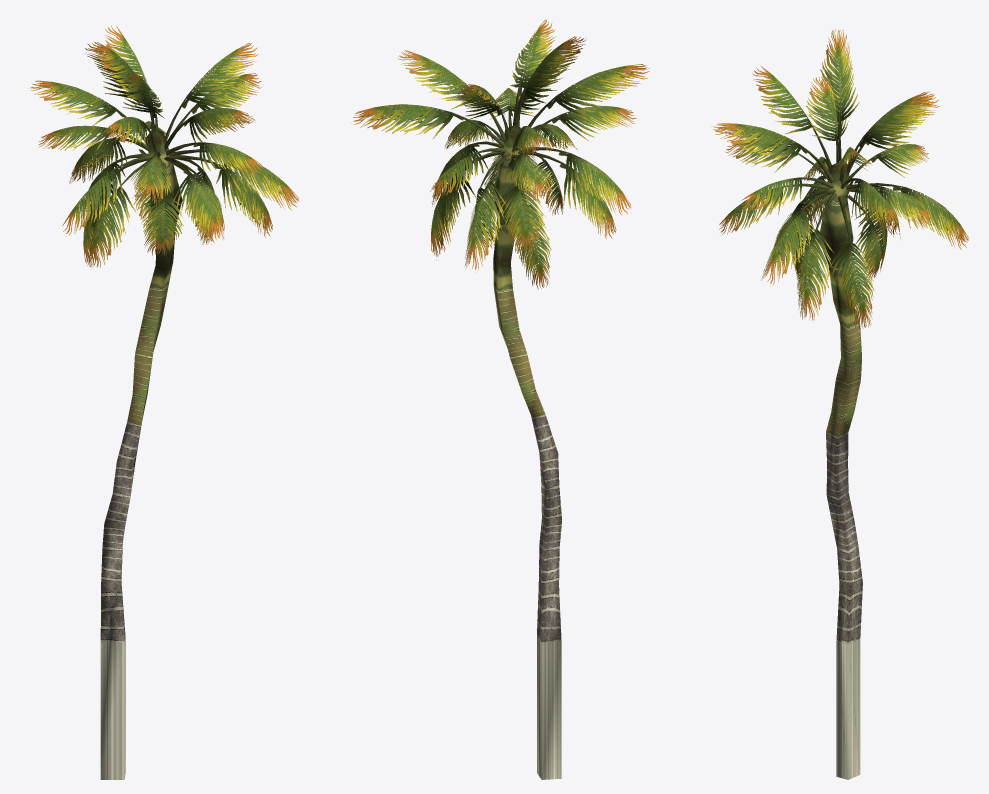
Rendered from tree_roystonea_regia_a.dae.
3 views of the same model, side by side, from view 1: azimuth 30°, elevation 25°; view 2: azimuth 150°, elevation 25°; view 3: azimuth 270°, elevation 25° (orthographic).
Visible parts, largest first — view 1: A; view 2: A; view 3: A.
Boxes of the visible parts, left/top/right/bottom form: A: left=28, top=25, right=298, bottom=779; A: left=353, top=19, right=649, bottom=779; A: left=711, top=29, right=968, bottom=779.
Bounding box in the file's own units: 10.05 × 9.43 × 27.61.
